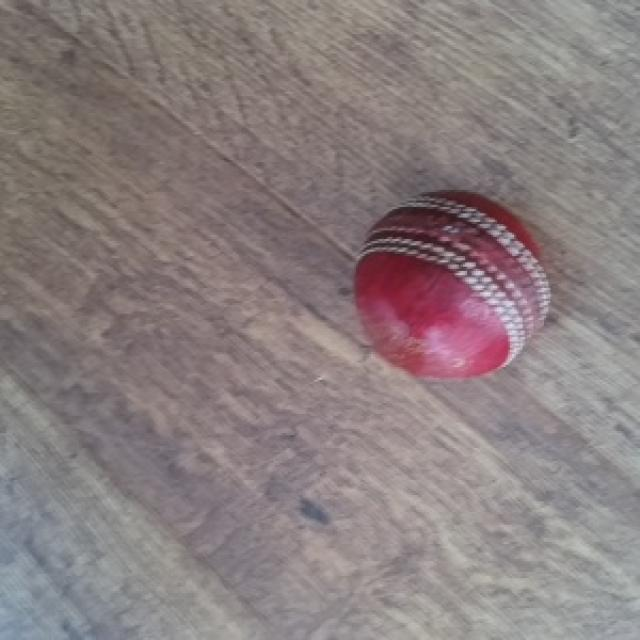ball: (350, 192, 550, 384)
